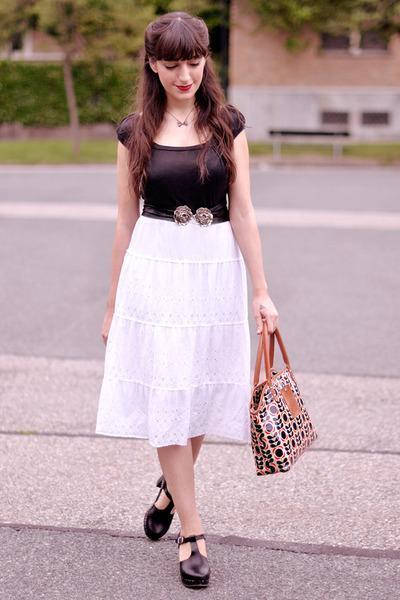bag: (236, 328, 309, 473)
shirt: (113, 119, 235, 222)
shoe: (144, 492, 211, 589)
skirt: (95, 205, 264, 451)
